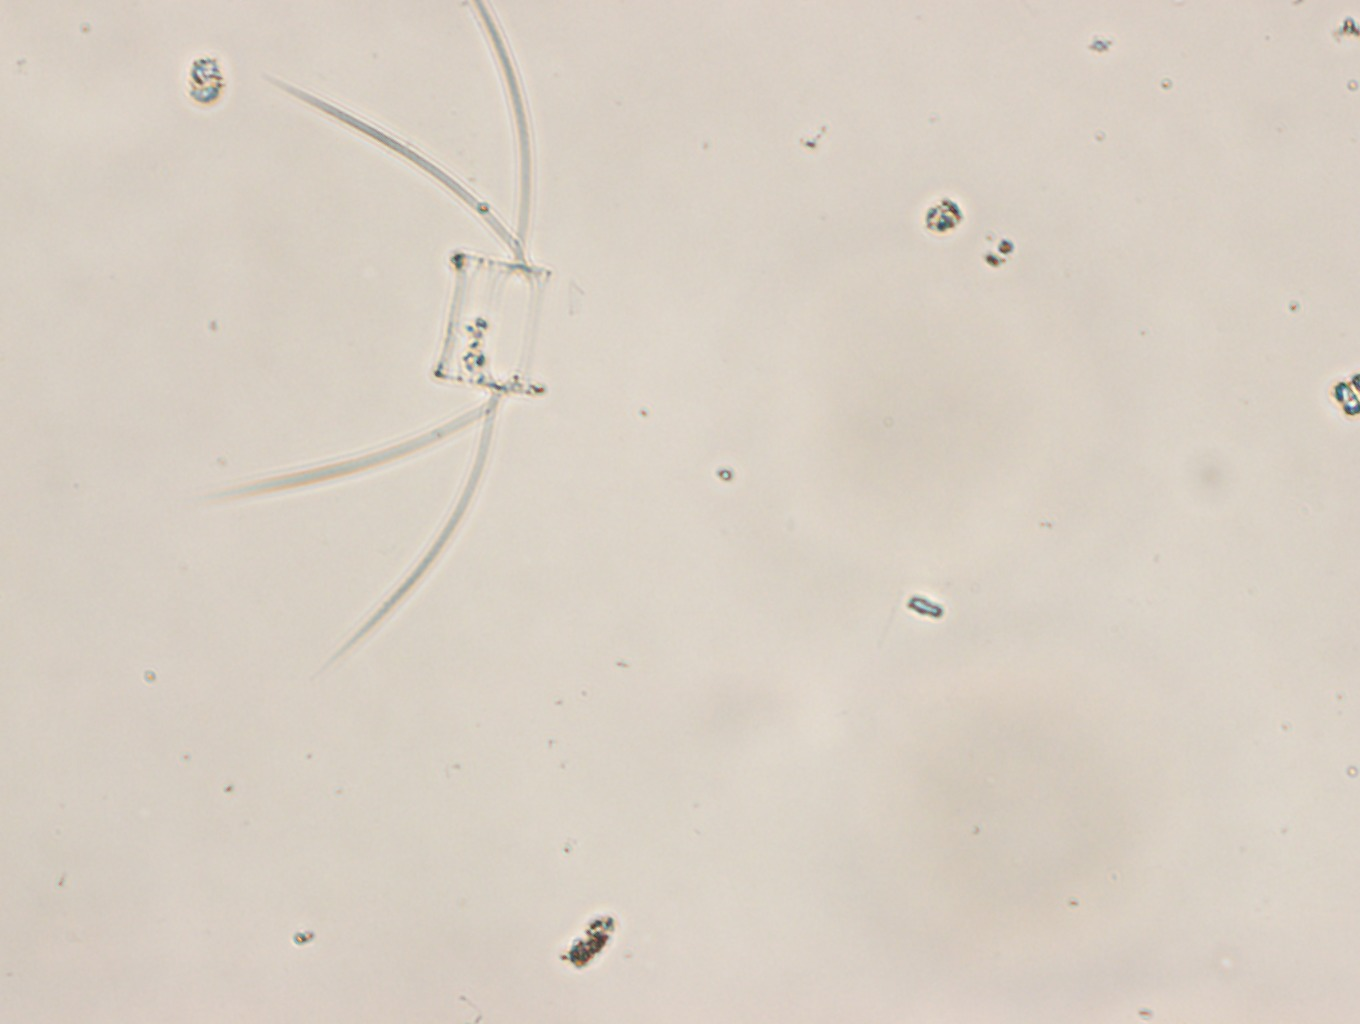chaetoceros: (201, 1, 552, 672)
